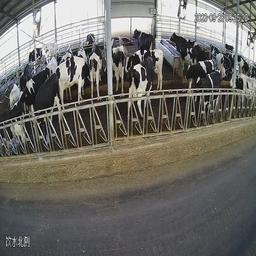cow: (52, 56, 90, 108), (132, 56, 164, 113), (30, 75, 54, 148), (195, 71, 225, 121), (3, 103, 25, 153), (86, 43, 104, 104), (170, 27, 196, 65), (111, 37, 127, 95), (231, 69, 255, 106), (132, 22, 154, 49), (181, 61, 215, 78), (208, 39, 225, 72), (41, 37, 55, 60), (28, 45, 39, 64)
